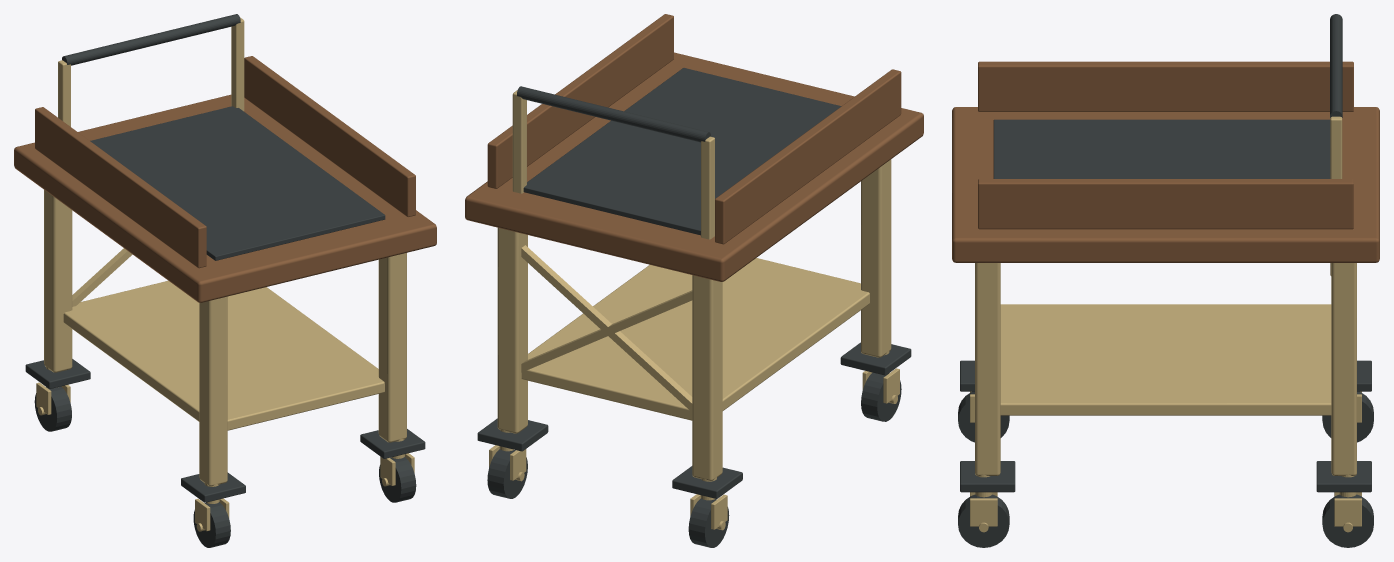
The model's file is tribunal_carrinho_provas.glb.
3 renders of one model, left to right at view 1: azimuth 30°, elevation 25°; view 2: azimuth 150°, elevation 25°; view 3: azimuth 270°, elevation 25°, orthographic. The views are drawn at different scales.
Visible parts, largest first — view 1: city-courthouse-and-records-office-evidence-trolley; view 2: city-courthouse-and-records-office-evidence-trolley; view 3: city-courthouse-and-records-office-evidence-trolley.
Boxes of the visible parts, <box> form: city-courthouse-and-records-office-evidence-trolley: <box>14,14,436,547</box>; city-courthouse-and-records-office-evidence-trolley: <box>465,14,923,547</box>; city-courthouse-and-records-office-evidence-trolley: <box>952,14,1379,547</box>.
Size of the model in its own units: 0.7999 by 1.2 by 1.08.
